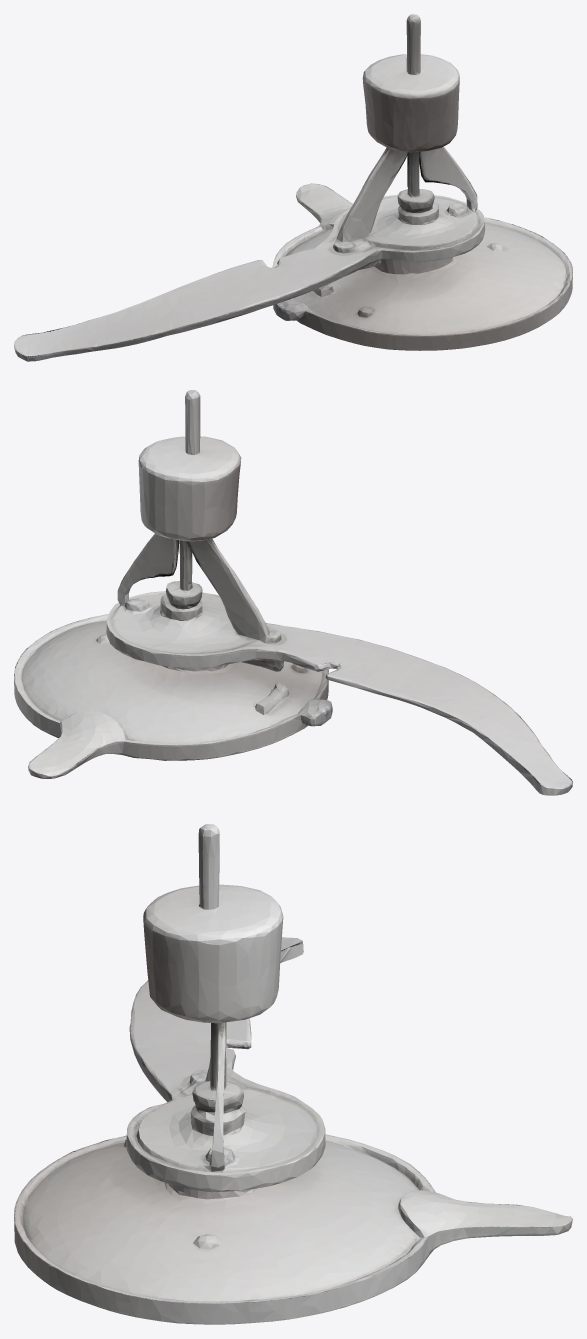
The picture shows the model from 3 angles, top to bottom: view 1: azimuth 30°, elevation 25°; view 2: azimuth 150°, elevation 25°; view 3: azimuth 270°, elevation 25°; orthographic projection. The views are drawn at different scales.
Visible parts, largest first — view 1: geometry_0; view 2: geometry_0; view 3: geometry_0.
Boxes of the visible parts, x1,y1,x2,y2 form: geometry_0: (14, 14, 572, 361); geometry_0: (14, 390, 572, 795); geometry_0: (14, 824, 572, 1324).
Size of the model in its own units: 0.9091 by 0.4713 by 0.5968.
Materials: 1 (1 with a texture image).
